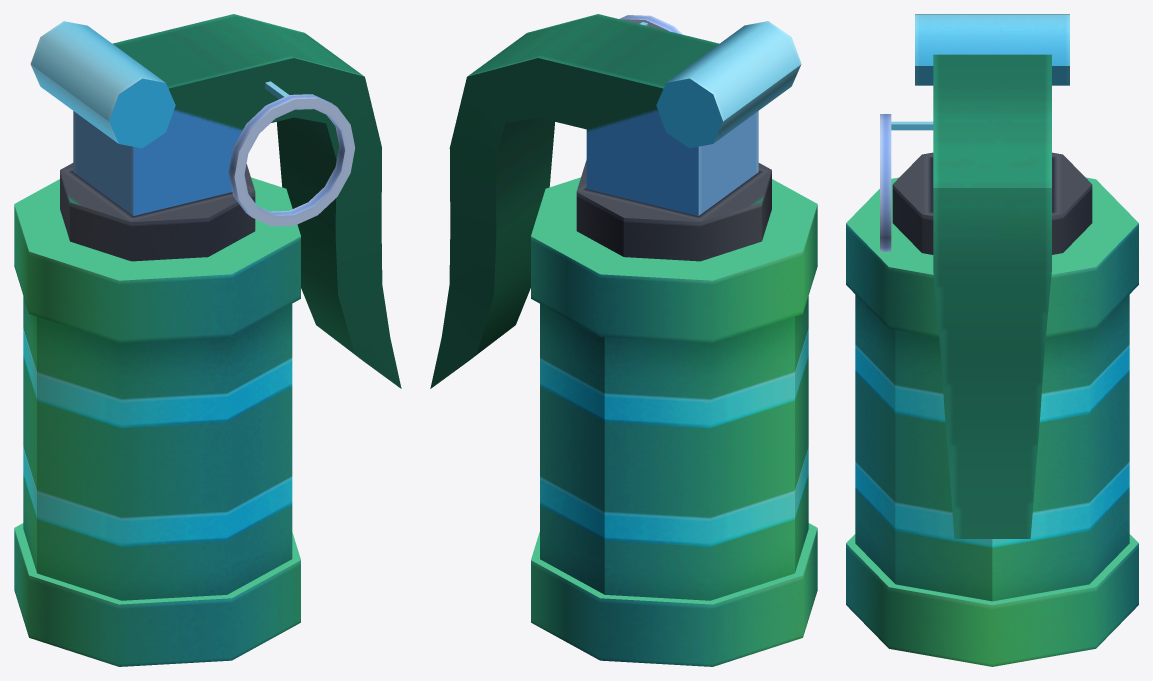
Rendered from Throwables_SmokeGrenade_Base_0_Mod.FBX.
3 views of the same model, side by side, from view 1: azimuth 30°, elevation 25°; view 2: azimuth 150°, elevation 25°; view 3: azimuth 270°, elevation 25° (orthographic).
Parts seen in each view (by area): view 1: SmokeGrenade; view 2: SmokeGrenade; view 3: SmokeGrenade.
Boxes of the visible parts, x1,y1,x2,y2 form: SmokeGrenade: (14,14,401,666); SmokeGrenade: (430,14,817,666); SmokeGrenade: (846,14,1138,666).
Size of the model in its own units: 17.76 by 27.37 by 12.9.
